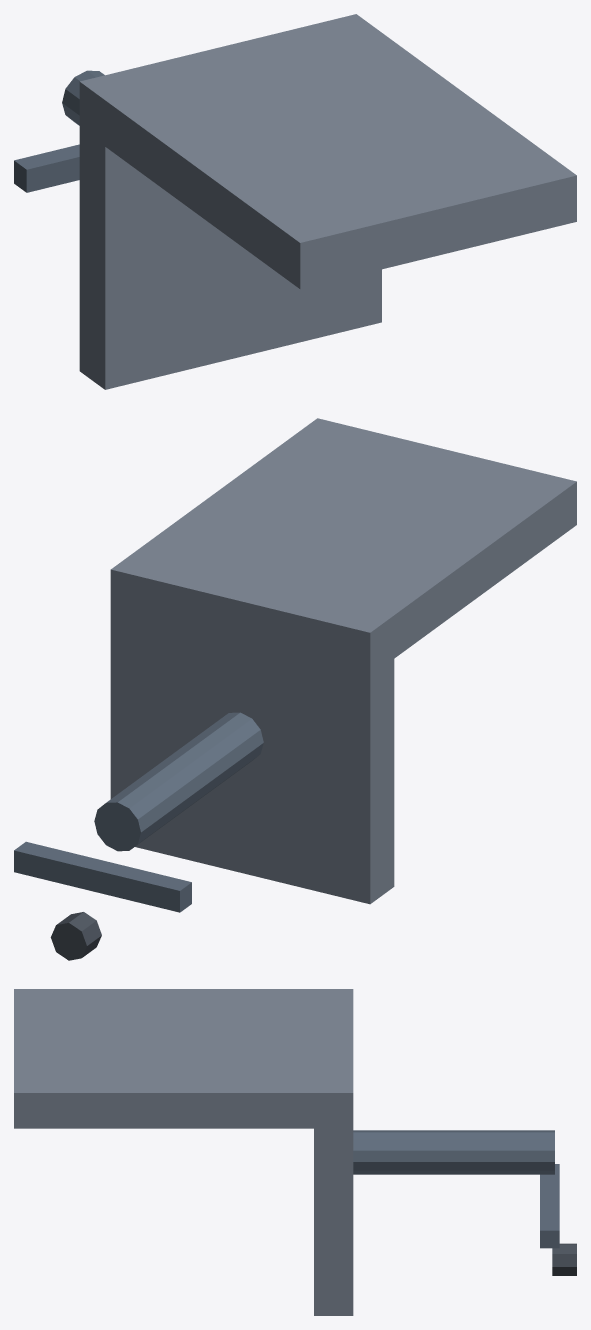
File: office_chair.glb
The picture shows the model from 3 angles, top to bottom: view 1: azimuth 30°, elevation 25°; view 2: azimuth 150°, elevation 25°; view 3: azimuth 270°, elevation 25°; orthographic projection. The views are drawn at different scales.
Visible parts, largest first — view 1: back, seat, spoke, post; view 2: seat, back, post, spoke, caster; view 3: back, seat, post, spoke, caster.
Part boxes in pixels (x1,y1,x2,y2): back: (82,17,576,289); seat: (79,14,381,389); spoke: (14,144,79,192); post: (62,70,104,125); seat: (110,567,394,904); back: (114,418,576,666); post: (94,712,263,851); spoke: (14,841,191,912); caster: (50,912,101,960); back: (14,989,348,1128); seat: (314,989,353,1315); post: (353,1130,554,1174); spoke: (540,1164,559,1248); caster: (552,1243,576,1275).
Bounding box in the file's own units: 0.5 × 0.5 × 1.14.
